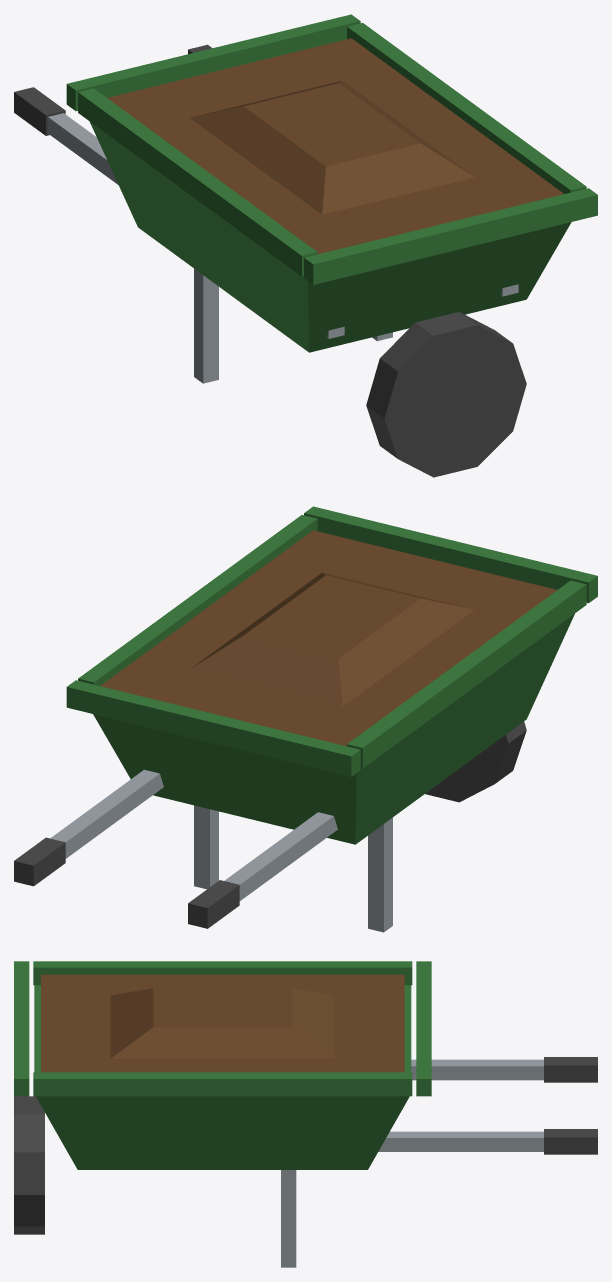
File: Prop_Wheelbarrow.fbx
The picture shows the model from 3 angles, top to bottom: view 1: azimuth 30°, elevation 25°; view 2: azimuth 150°, elevation 25°; view 3: azimuth 270°, elevation 25°; orthographic projection. The views are drawn at different scales.
Parts seen in each view (by area): view 1: Prop_Wheelbarrow; view 2: Prop_Wheelbarrow; view 3: Prop_Wheelbarrow.
Part boxes in pixels (left/top/right/bottom): Prop_Wheelbarrow: left=14, top=14, right=597, bottom=477; Prop_Wheelbarrow: left=14, top=506, right=597, bottom=932; Prop_Wheelbarrow: left=14, top=961, right=597, bottom=1267.
Size of the model in its own units: 0.72 by 0.63 by 1.51.
